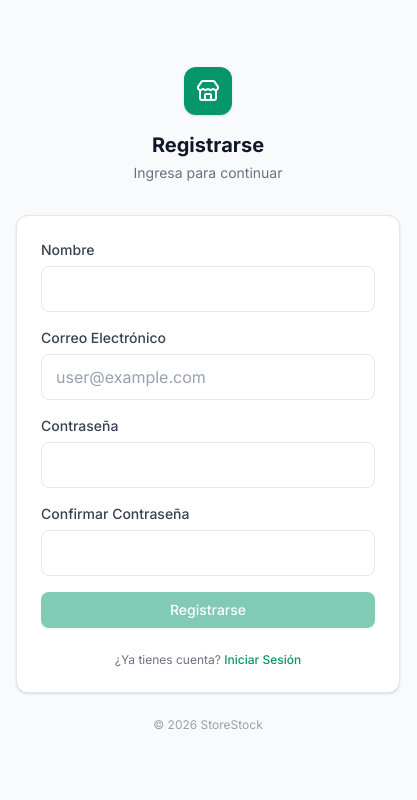
it: RegisterPage › registra al usuario con los datos ingresados y muestra el mensaje de éxito
In the 1st field: (208, 289) [41,266,375,312], type "Juan Pérez"
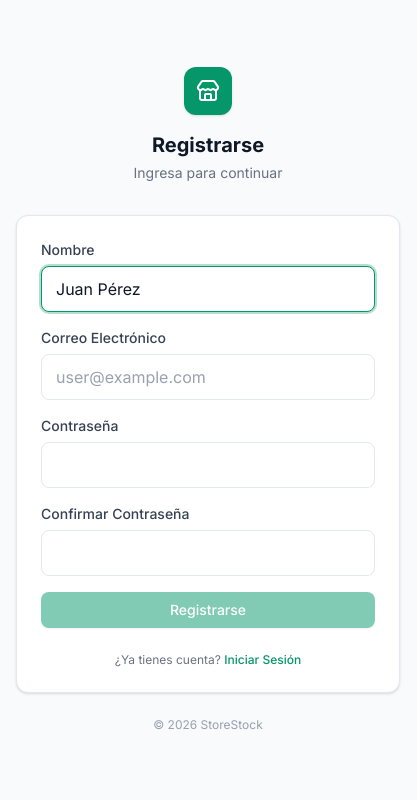
In the field with placeholder "user@example.com": (208, 377) [41,354,375,400], type "juan@x.com"
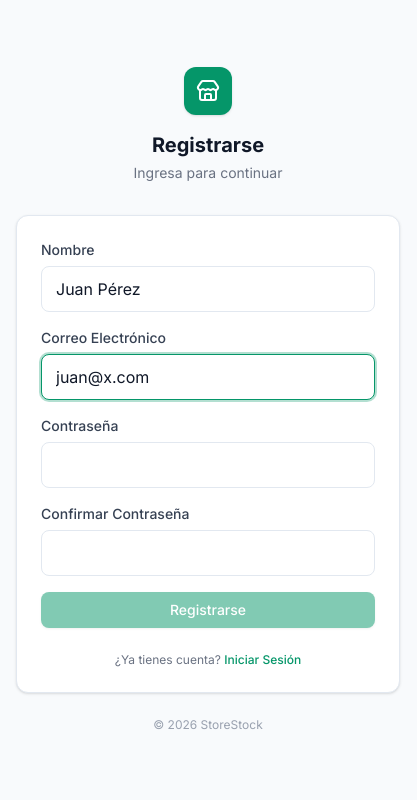
In the 1st password field: (208, 465) [41,442,375,488], type "Abcdef12"
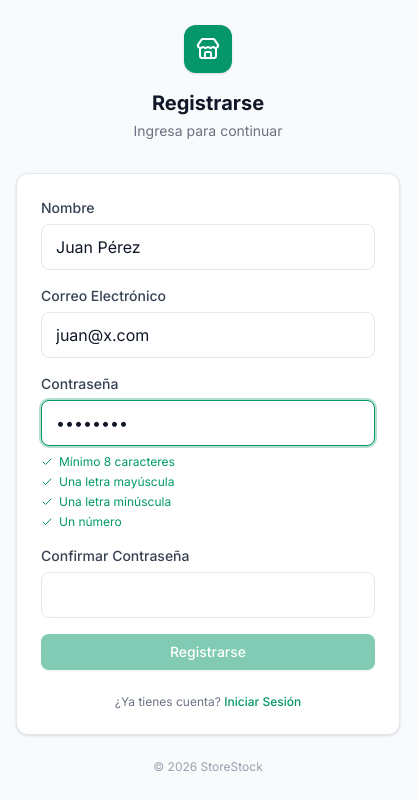
In the password field below "Confirmar Contraseña": (208, 595) [41,572,375,618], type "Abcdef12"
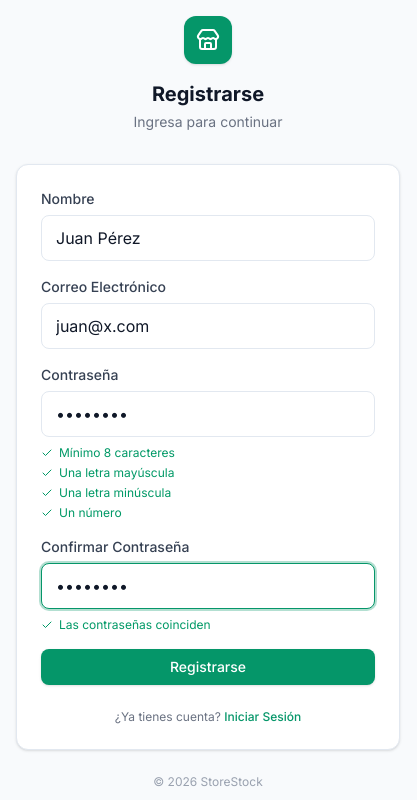
Click the button "Registrarse": (208, 667) [41,649,375,685]
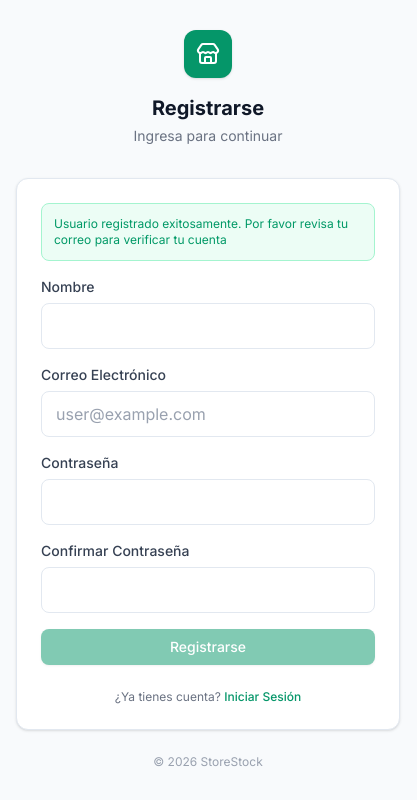
Check: the text "Usuario registrado exitosamente" is shown, box [54,216,348,247]
